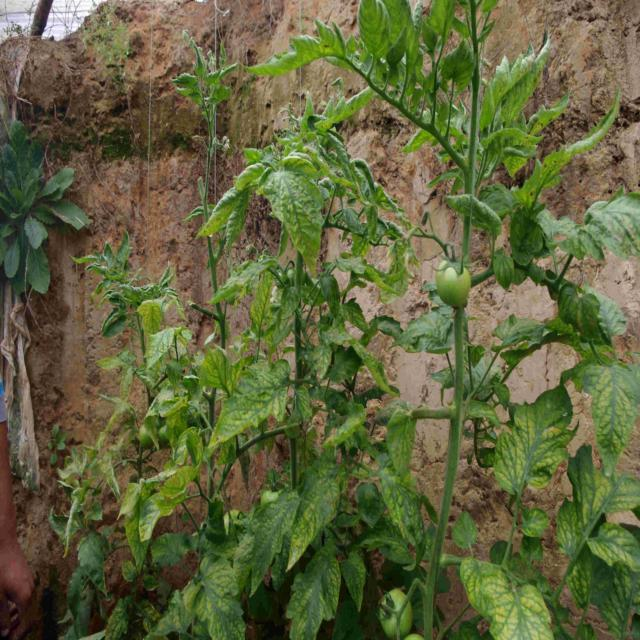Leaf_Mold: (494, 381, 578, 506), (462, 549, 554, 640), (558, 462, 637, 560), (571, 358, 640, 464), (256, 164, 321, 274), (205, 362, 286, 449), (179, 555, 245, 640), (283, 472, 341, 564), (129, 295, 176, 373), (374, 467, 421, 542), (122, 479, 152, 579), (588, 523, 640, 572), (282, 572, 319, 640), (241, 272, 270, 342), (319, 556, 342, 620)
